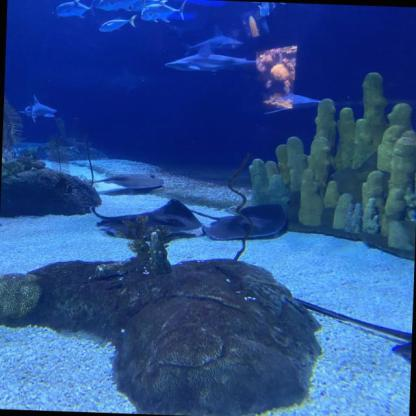fish: (137, 2, 187, 23), (126, 0, 174, 16), (96, 0, 146, 14), (53, 1, 91, 19), (96, 18, 126, 33), (254, 2, 277, 17), (74, 0, 108, 3)
shark: (163, 46, 259, 76), (257, 89, 328, 114), (107, 71, 150, 91), (18, 100, 55, 122)
stingray: (96, 199, 202, 246), (203, 201, 292, 244), (103, 168, 166, 196), (383, 331, 411, 379)
